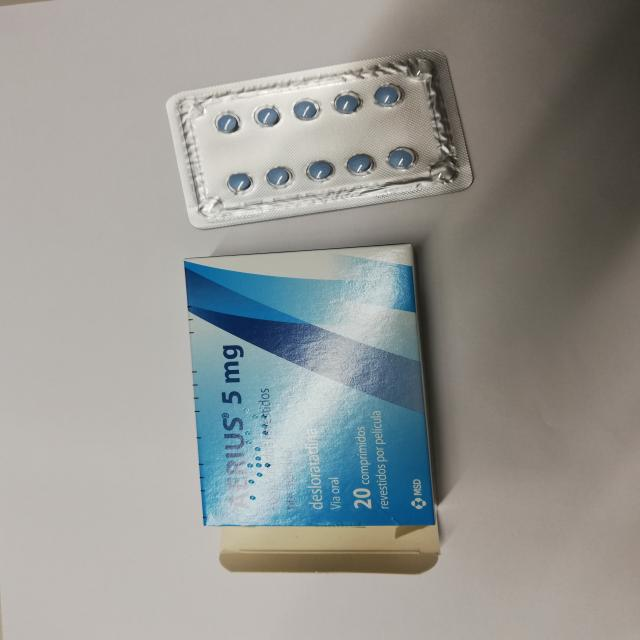Pill: (339, 146, 381, 180), (382, 139, 424, 172), (248, 100, 285, 136), (287, 94, 326, 128), (369, 81, 411, 111), (224, 166, 259, 202), (304, 154, 341, 188), (265, 162, 302, 195), (211, 108, 245, 140), (330, 85, 364, 116)
